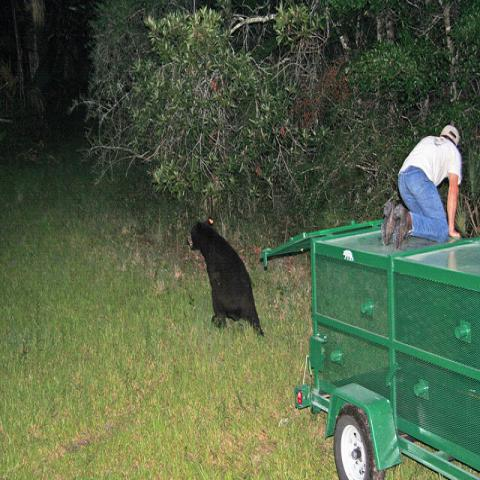truck: (262, 215, 479, 474)
